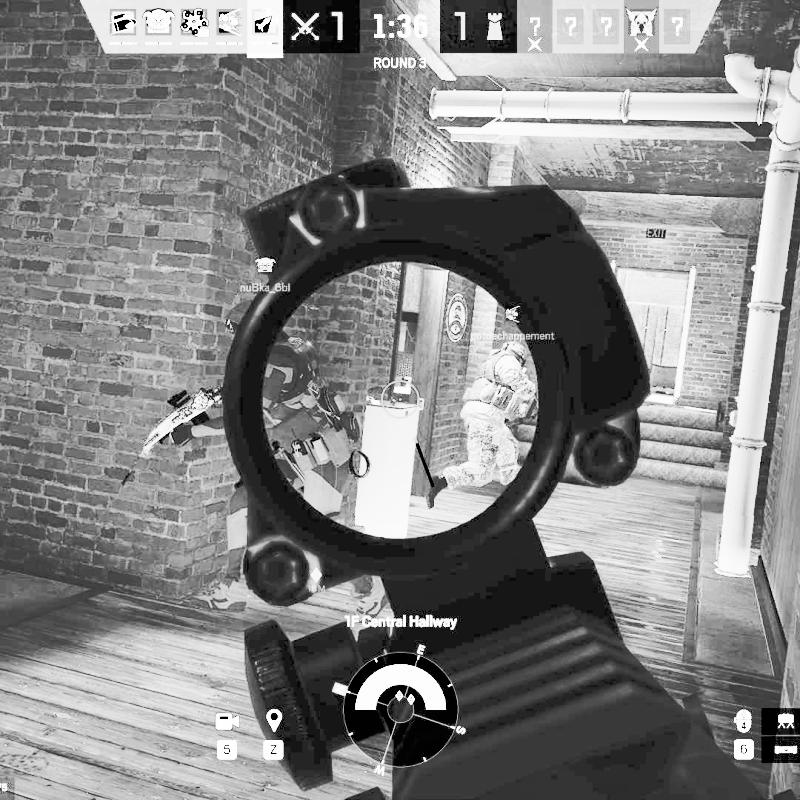Character: (138, 294, 392, 622), (424, 340, 540, 511)
Friend_label: (469, 305, 559, 342), (238, 255, 292, 293)
Head: (226, 297, 250, 336), (503, 341, 530, 367)
